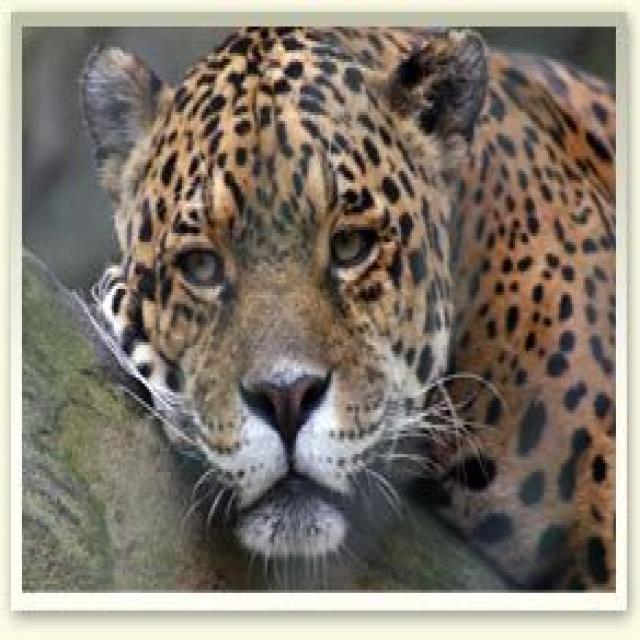Leopard: (74, 26, 612, 590)
